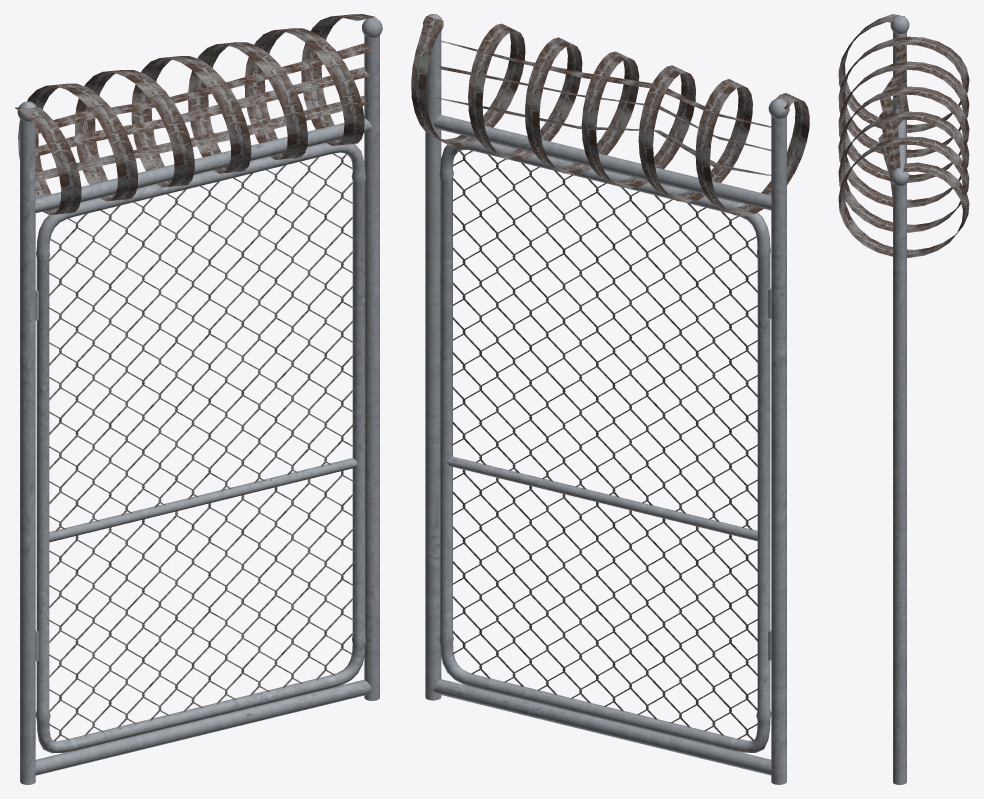
File: Kit_WireBarrier_Door.fbx
The picture shows the model from 3 angles, left to right: view 1: azimuth 30°, elevation 25°; view 2: azimuth 150°, elevation 25°; view 3: azimuth 270°, elevation 25°; orthographic projection. The views are drawn at different scales.
Parts seen in each view (by area): view 1: Door, BarbedWire, Iron; view 2: Door, Iron, BarbedWire; view 3: BarbedWire, Iron.
Part boxes in pixels (x1=…): Door: x1=35, y1=142, x2=366, y2=753; BarbedWire: x1=15, y1=14, x2=375, y2=214; Iron: x1=17, y1=17, x2=382, y2=784; Door: x1=439, y1=140, x2=771, y2=752; Iron: x1=423, y1=14, x2=789, y2=784; BarbedWire: x1=411, y1=16, x2=809, y2=216; BarbedWire: x1=838, y1=14, x2=969, y2=257; Iron: x1=890, y1=15, x2=909, y2=784.
Bounding box in the file's own units: 86.4 × 154 × 29.86.
